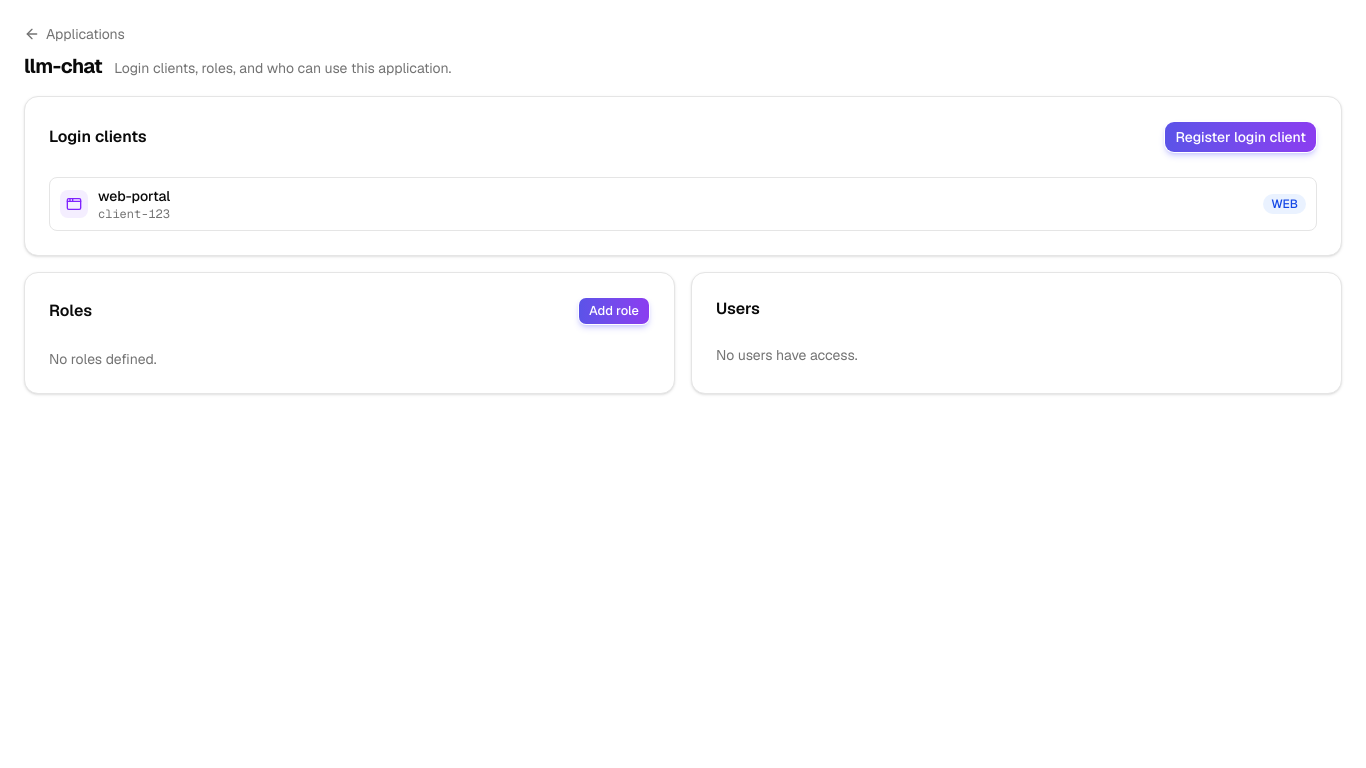
ApplicationDetailPage › reflects an edit in the open detail panel (live derivation, not the stale selection)
Expected: the text "web-portal" is shown, [98, 186, 170, 206]
Click the button "web-portal client-123 WEB": (134,196) [49, 177, 1317, 231]
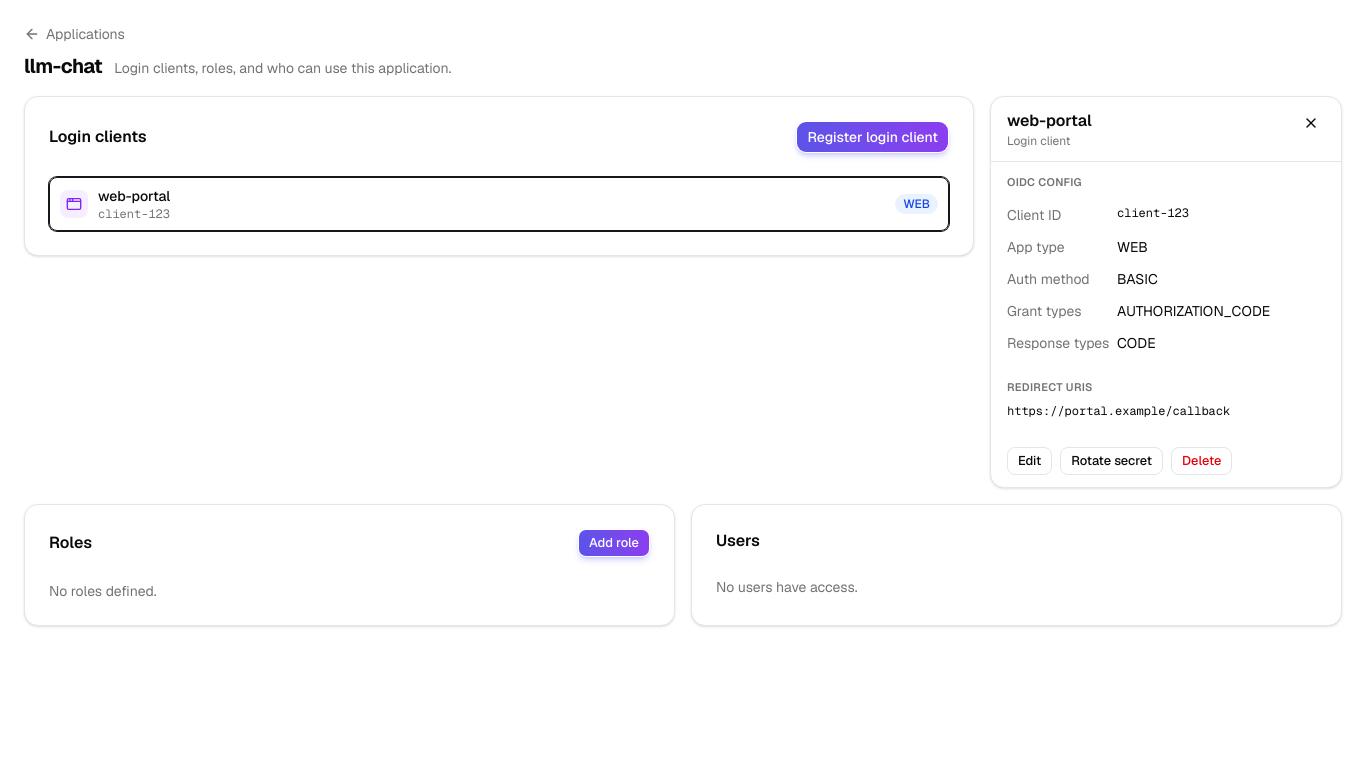
Expected: the list item "https://portal.example/callback" is shown, [1007, 403, 1230, 419]
Click the button "Edit": (1030,461) [1007, 447, 1052, 475]
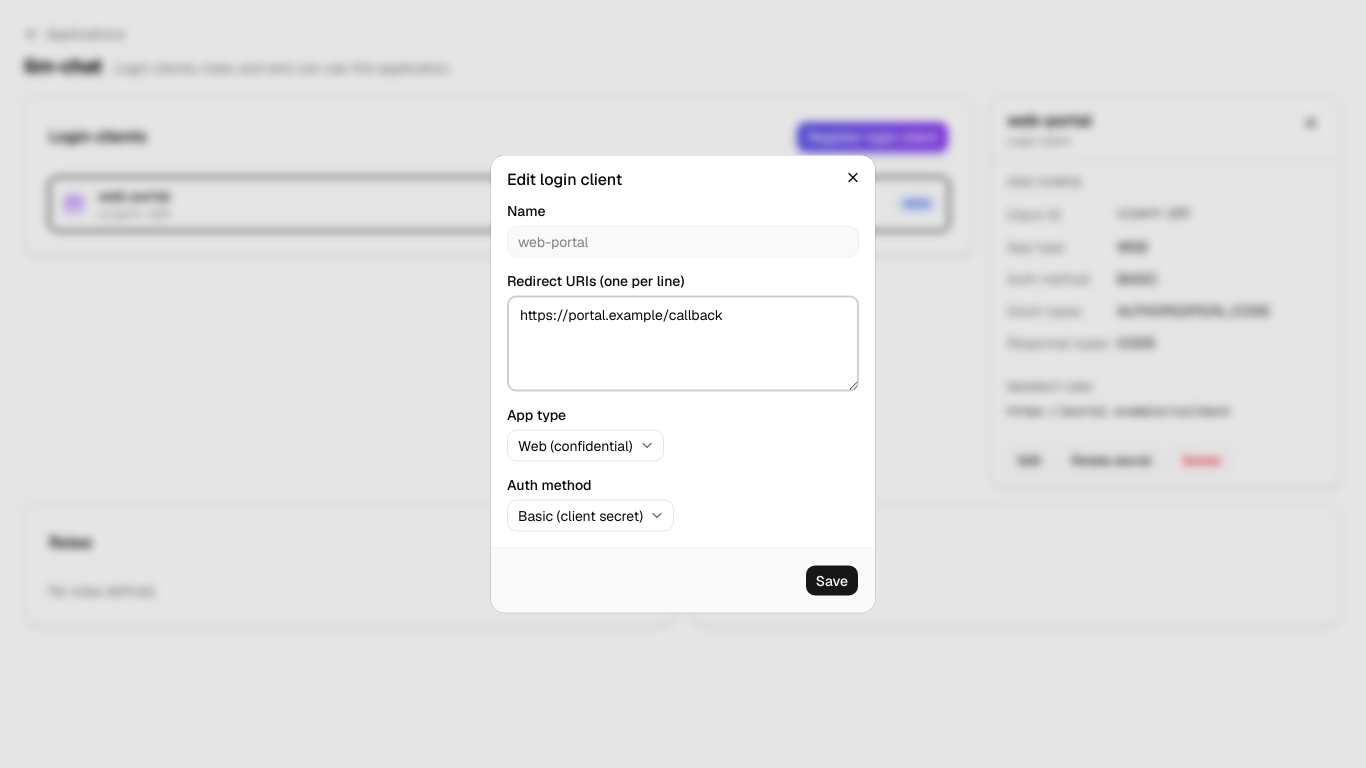
Click the button "Save": (832,580) [805, 564, 859, 596]
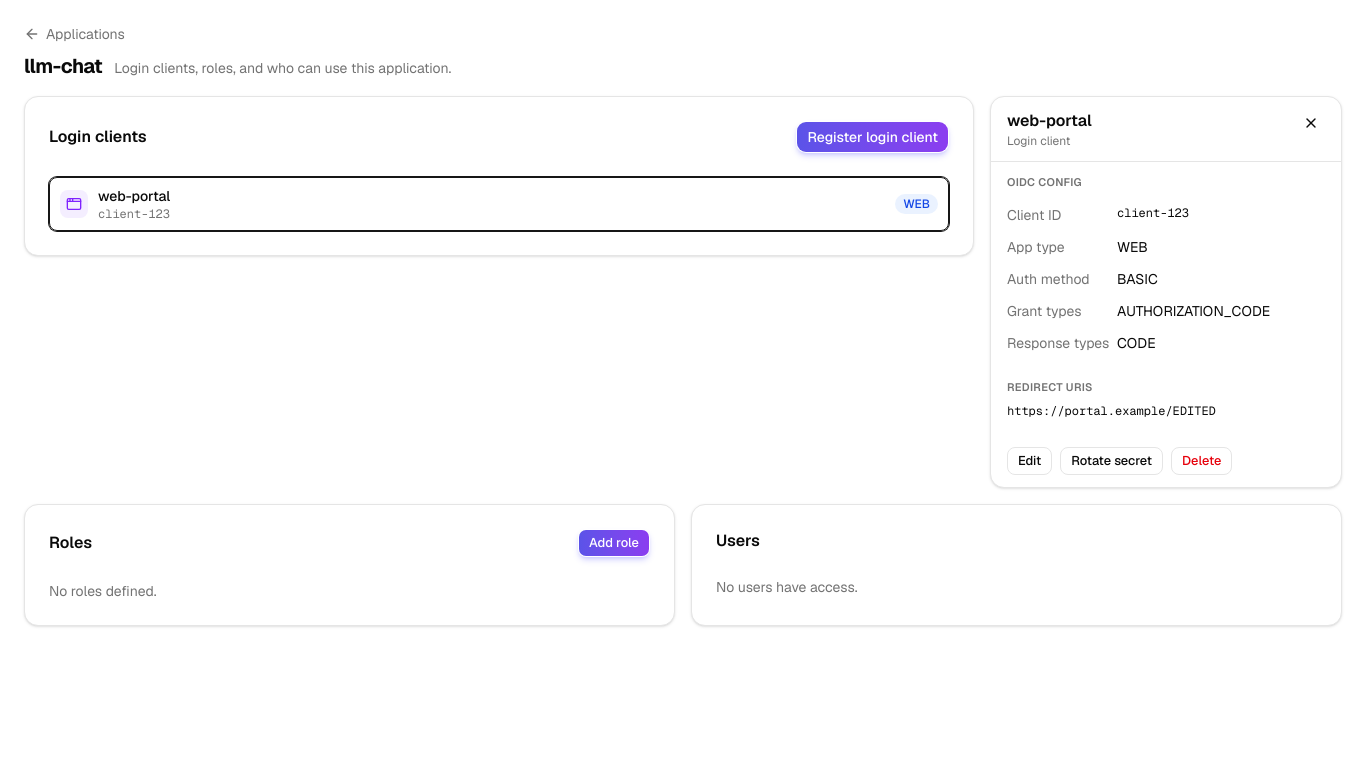
Expected: the list item "https://portal.example/EDITED" is shown, [1007, 403, 1216, 419]
Expected: the list item "https://portal.example/callback" is gone
